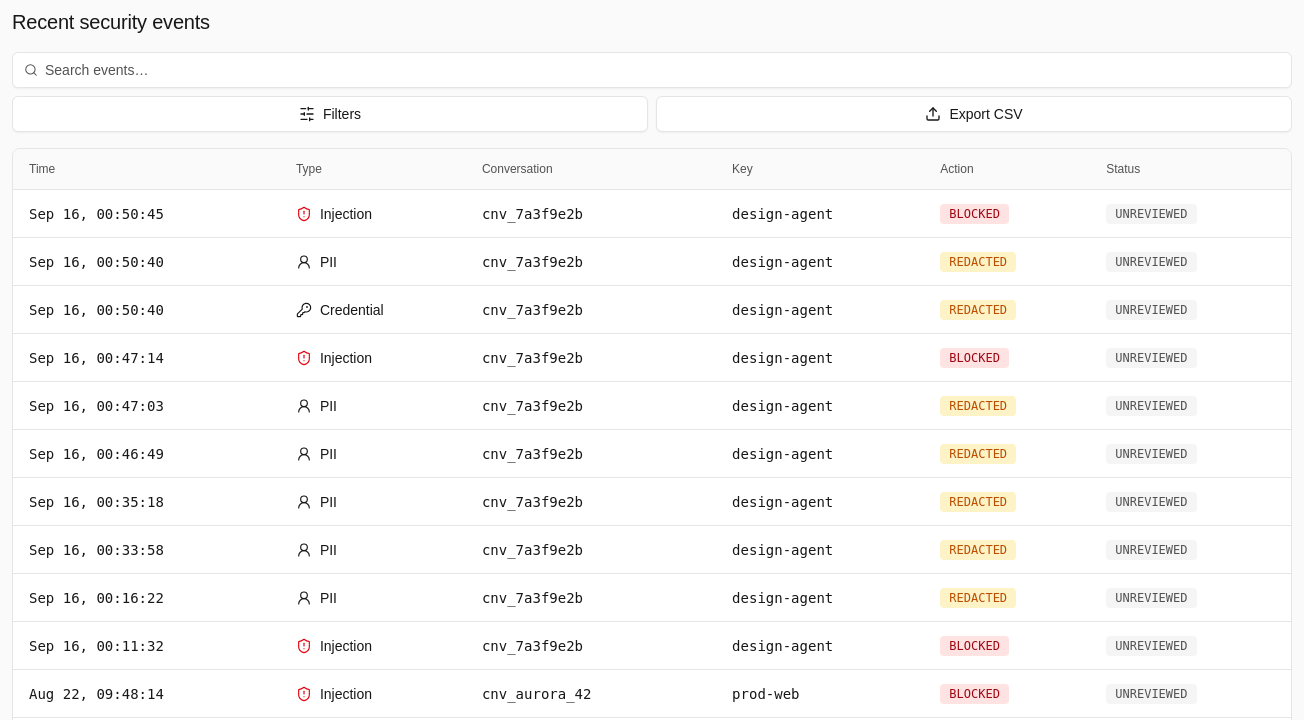
Scenario: EventsTableSection › a search that matches nothing shows the empty state
Step 1. Type "zzzzz-no-such-event" into the search field labelled "Search events" → x=652, y=70, box [12,52,1292,88]
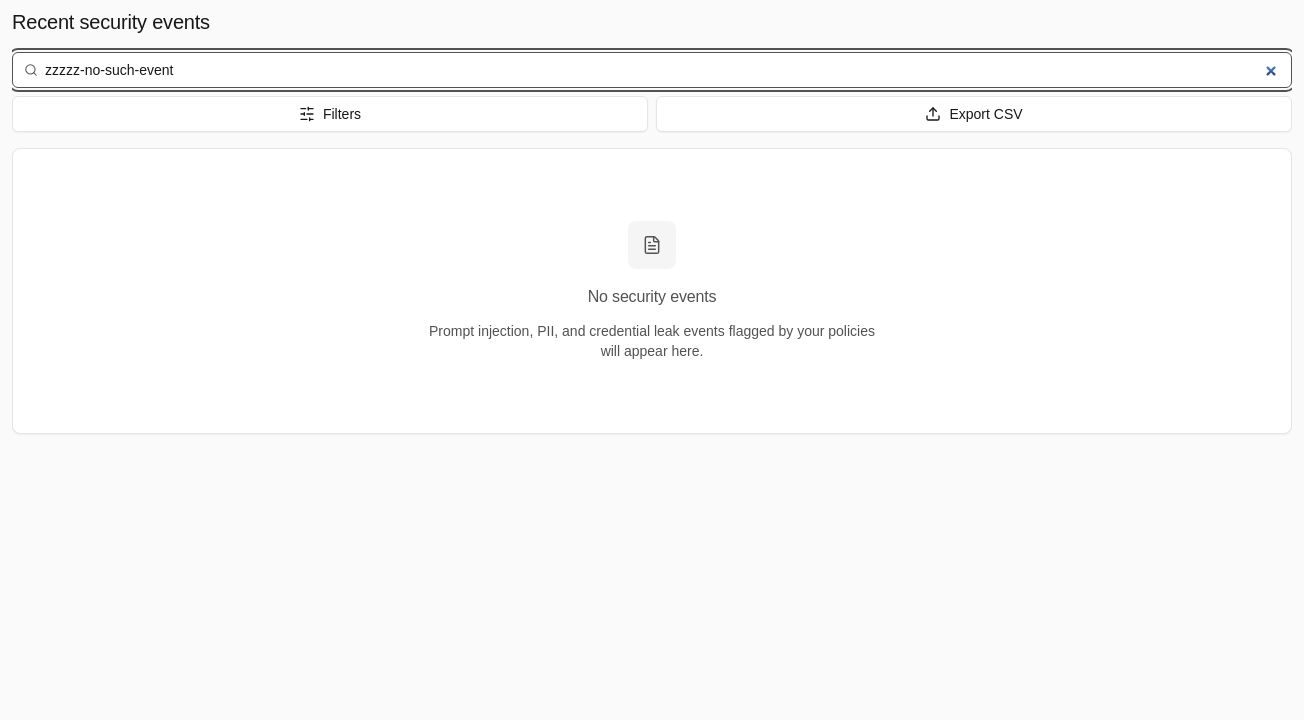
Result: the heading "No security events" is shown at [588,288,716,305]
